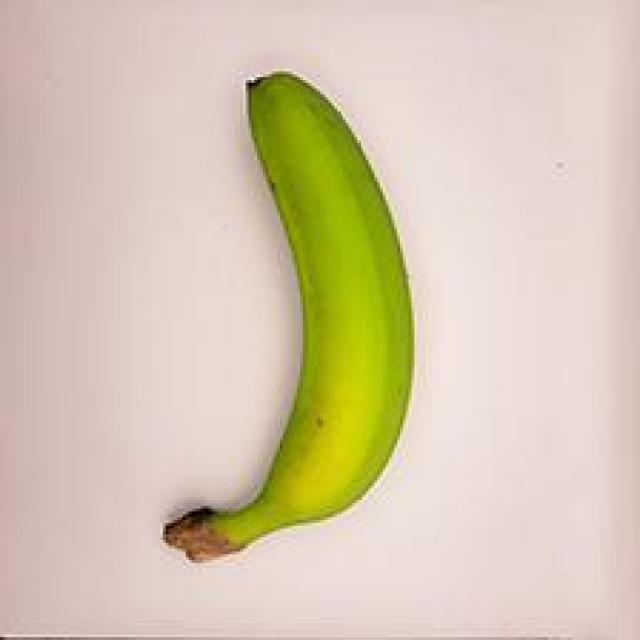unripe: (143, 43, 435, 586)
